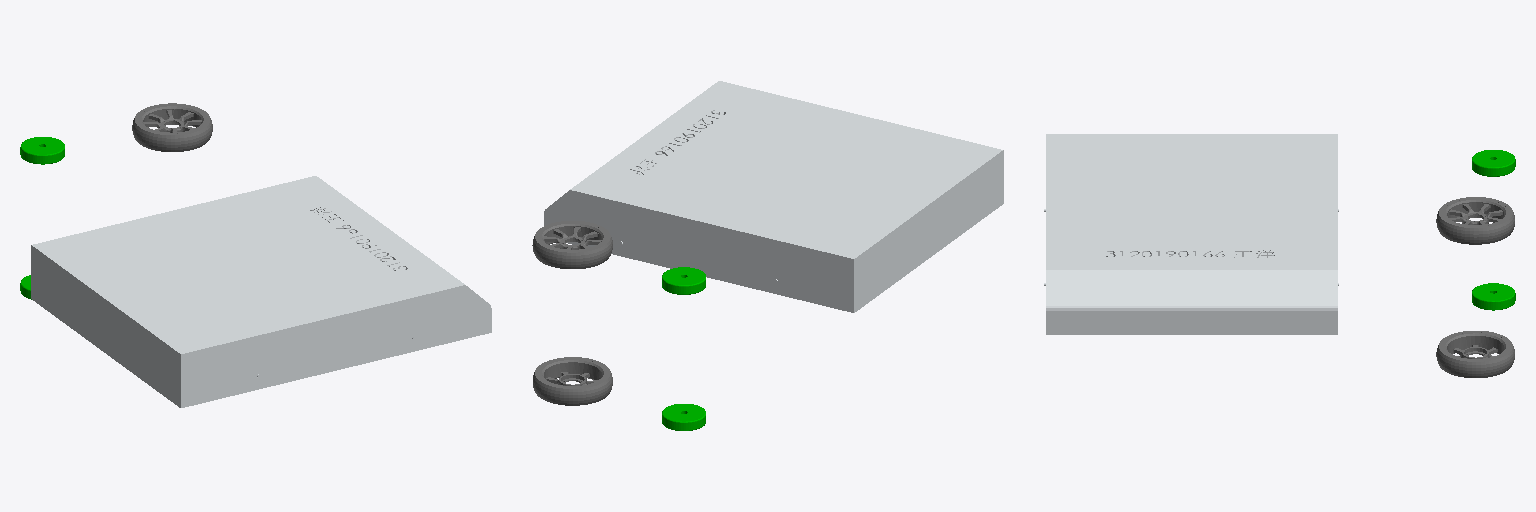
URDF robot description (robot2):

<robot
  name="robot2">

  <link name="world"/>
  <joint
        name="base_connected2_world"
        type="fixed">
        <origin
        xyz="0 0 0.0"
        rpy="0 0 0" />
        <parent
        link="world" />
        <child
        link="base_link" />
  </joint>


  <link
    name="base_link">
    <inertial>
      <origin
        xyz="0.017936707171404 0.00054473195811784 -0.123239325963291"
        rpy="0 0 0" />
      <mass
        value="12.9070265324055" />
      <inertia
        ixx="0.710819177579803"
        ixy="0.00037248634763664"
        ixz="0.0404097425726636"
        iyy="0.578743280507746"
        iyz="0.000521241409394757"
        izz="0.234537256967397" />
    </inertial>
    <visual>
      <origin
        xyz="0 0 0"
        rpy="0 0 0" />
      <geometry>
        <mesh
          filename="package://robot2/meshes/base_link.STL" />
      </geometry>
      <material
        name="">
        <color
          rgba="0.898039215686275 0.917647058823529 0.929411764705882 1" />
      </material>
    </visual>
    <collision>
      <origin
        xyz="0 0 0"
        rpy="0 0 0" />
      <geometry>
        <mesh
          filename="package://robot2/meshes/base_link.STL" />
      </geometry>
    </collision>
  </link>


  <link
    name="W1_Link">
    <inertial>
      <origin
        xyz="0.000793455564381124 -1.38189681919698E-10 5.74093994565317E-10"
        rpy="0 0 0" />
      <mass
        value="0.287195115520546" />
      <inertia
        ixx="0.000832836907978905"
        ixy="-8.2306907084466E-13"
        ixz="2.93777428387729E-12"
        iyy="0.000437966335601868"
        iyz="1.11612037971207E-12"
        izz="0.000437966329932641" />
    </inertial>
    <visual>
      <origin
        xyz="0 0 0"
        rpy="0 0 0" />
      <geometry>
        <mesh
          filename="package://robot2/meshes/1_Link.STL" />
      </geometry>
      <material
        name="">
        <color
          rgba="0.501960784313725 0.501960784313725 0.501960784313725 1" />
      </material>
    </visual>
    <collision>
      <origin
        xyz="0 0 0"
        rpy="0 0 0" />
      <geometry>
        <mesh
          filename="package://robot2/meshes/1_Link.STL" />
      </geometry>
    </collision>
  </link>
  <joint
    name="joint1"
    type="continuous">
    <origin
      xyz="0.108515172687917 0.485279110277683 0.125999999999999"
      rpy="1.93411494532062 -1.5707963267949 0" />
    <parent
      link="base_link" />
    <child
      link="W1_Link" />
    <axis
      xyz="0 1 0" />
  </joint>



  <link
    name="W2_Link">
    <inertial>
      <origin
        xyz="0.000793455564376877 -1.3784351438062E-10 5.74978412104521E-10"
        rpy="0 0 0" />
      <mass
        value="0.287195115520546" />
      <inertia
        ixx="0.000832836907978904"
        ixy="-8.23073556725101E-13"
        ixz="2.93777749334848E-12"
        iyy="0.000437966335601868"
        iyz="1.11612038521778E-12"
        izz="0.00043796632993264" />
    </inertial>
    <visual>
      <origin
        xyz="0 0 0"
        rpy="0 0 0" />
      <geometry>
        <mesh
          filename="package://robot2/meshes/2_Link.STL" />
      </geometry>
      <material
        name="">
        <color
          rgba="0.501960784313725 0.501960784313725 0.501960784313725 1" />
      </material>
    </visual>
    <collision>
      <origin
        xyz="0 0 0"
        rpy="0 0 0" />
      <geometry>
        <mesh
          filename="package://robot2/meshes/2_Link.STL" />
      </geometry>
    </collision>
  </link>
  <joint
    name="joint2"
    type="continuous">
    <origin
      xyz="0.108515172688168 0.485279110277728 -0.126000000000001"
      rpy="3.12733988546294 1.5707963267949 0" />
    <parent
      link="base_link" />
    <child
      link="W2_Link" />
    <axis
      xyz="0 1 0" />
  </joint>
  <link
    name="W3_Link">
    <inertial>
      <origin
        xyz="5.19584375524573E-14 5.4900528567714E-14 0.00899999999999977"
        rpy="0 0 0" />
      <mass
        value="0.0770861160413619" />
      <inertia
        ixx="2.97268485871718E-05"
        ixy="2.5410988417629E-21"
        ixz="-1.59580831175253E-20"
        iyy="2.97268485871718E-05"
        iyz="-1.11056369965151E-20"
        izz="5.532802779989E-05" />
    </inertial>
    <visual>
      <origin
        xyz="0 0 0"
        rpy="0 0 0" />
      <geometry>
        <mesh
          filename="package://robot2/meshes/3_Link.STL" />
      </geometry>
      <material
        name="">
        <color
          rgba="0 0.752941176470588 0 1" />
      </material>
    </visual>
    <collision>
      <origin
        xyz="0 0 0"
        rpy="0 0 0" />
      <geometry>
        <mesh
          filename="package://robot2/meshes/3_Link.STL" />
      </geometry>
    </collision>
  </link>
  <joint
    name="joint3"
    type="continuous">
    <origin
      xyz="-0.124380455219949 0.515705341337776 0.116999999999995"
      rpy="0 0 2.54661249212373" />
    <parent
      link="base_link" />
    <child
      link="W3_Link" />
    <axis
      xyz="0 0 1" />
  </joint>
  <link
    name="W4_Link">
    <inertial>
      <origin
        xyz="-2.72004641033163E-15 -5.38458166943201E-15 0.0090000000000002"
        rpy="0 0 0" />
      <mass
        value="0.077086116041362" />
      <inertia
        ixx="2.97268485871719E-05"
        ixy="-2.5410988417629E-21"
        ixz="1.47844140142988E-20"
        iyy="2.97268485871718E-05"
        iyz="-2.4854028217573E-20"
        izz="5.532802779989E-05" />
    </inertial>
    <visual>
      <origin
        xyz="0 0 0"
        rpy="0 0 0" />
      <geometry>
        <mesh
          filename="package://robot2/meshes/4_Link.STL" />
      </geometry>
      <material
        name="">
        <color
          rgba="0 0.752941176470588 0 1" />
      </material>
    </visual>
    <collision>
      <origin
        xyz="0 0 0"
        rpy="0 0 0" />
      <geometry>
        <mesh
          filename="package://robot2/meshes/4_Link.STL" />
      </geometry>
    </collision>
  </link>
  <joint
    name="joint4"
    type="continuous">
    <origin
      xyz="-0.124380455220023 0.51570534133776 -0.134999999999995"
      rpy="0 0 2.54661249212372" />
    <parent
      link="base_link" />
    <child
      link="W4_Link" />
    <axis
      xyz="0 1 0" />
  </joint>
</robot>

--- What the picture shows (computed from the rendered views, not written in the file) ---
The picture shows the robot from 3 angles, left to right: view 1: azimuth 30°, elevation 25°; view 2: azimuth 150°, elevation 25°; view 3: azimuth 270°, elevation 25°; orthographic projection.
Model robot2 with 6 links and 5 joints (4 continuous, 1 fixed), rooted at world, posed all joints at 0.
Visible links, largest first — view 1: base_link, W1_Link, W3_Link; view 2: base_link, W2_Link, W1_Link, W3_Link, W4_Link; view 3: base_link, W1_Link, W2_Link, W4_Link, W3_Link.
Boxes of the visible links, x1,y1,x2,y2 form: base_link: (31,176,491,407); W1_Link: (132,103,212,151); W3_Link: (20,137,64,164); base_link: (544,81,1003,312); W2_Link: (533,357,612,405); W1_Link: (532,221,612,268); W3_Link: (662,267,705,294); W4_Link: (662,404,705,430); base_link: (1044,134,1338,334); W1_Link: (1436,197,1514,244); W2_Link: (1436,331,1514,377); W4_Link: (1472,283,1515,310); W3_Link: (1472,150,1515,176).
Size in the robot's own frame: 0.6 by 0.8052 by 0.283 metres.
5 mesh visuals loaded from 5 distinct referenced files (5 binary STL).